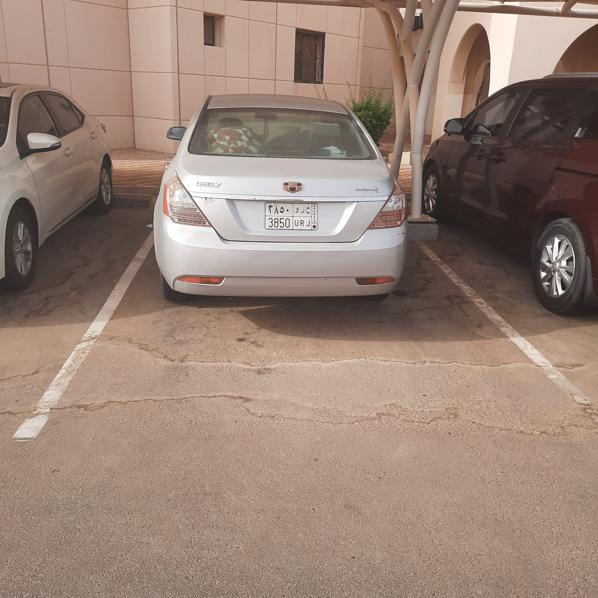numberplate: (265, 202, 318, 230)
